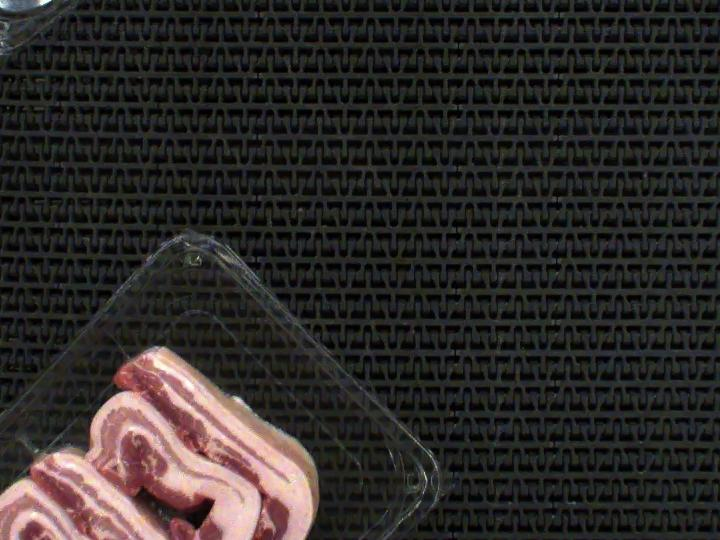packaging-error: (7, 421, 53, 463)
